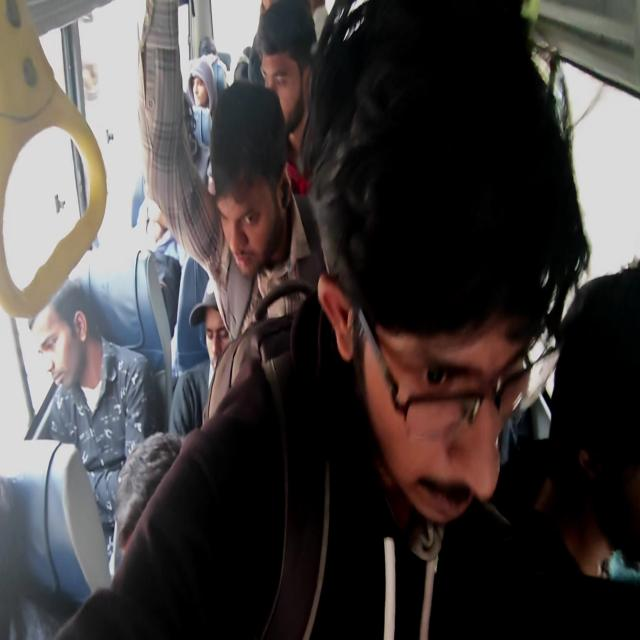person: (356, 281, 532, 536), (558, 298, 640, 568), (255, 0, 317, 149), (112, 429, 182, 559), (0, 471, 48, 639), (28, 278, 94, 394), (214, 163, 277, 280), (133, 204, 185, 340), (199, 288, 231, 374), (185, 56, 216, 115), (202, 29, 228, 70), (308, 0, 326, 21), (243, 45, 252, 62)
